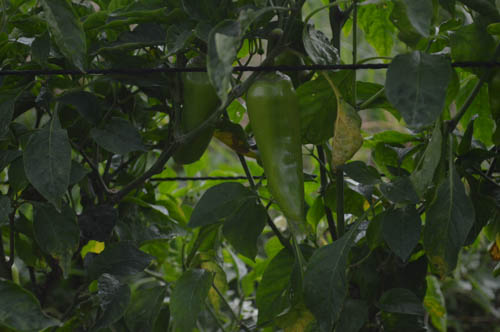ChiliPepper: (250, 75, 310, 215), (177, 60, 223, 159)
